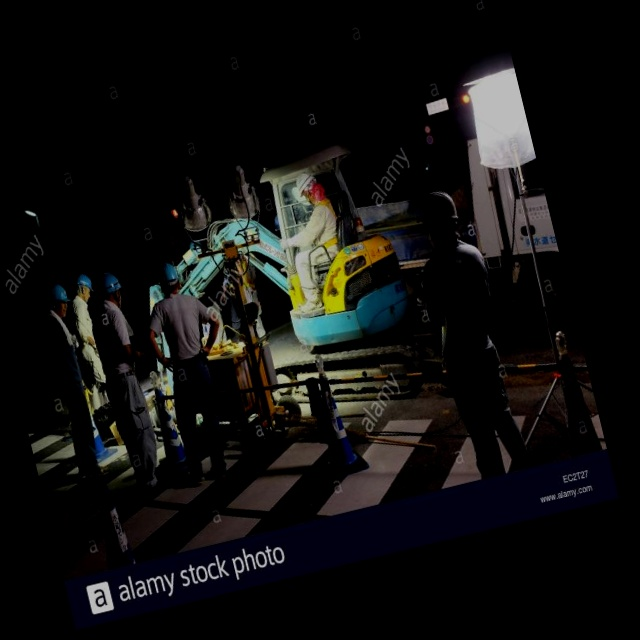Con_Casco: (97, 268, 127, 304), (155, 259, 181, 296)
Sin_Chaleco: (420, 239, 506, 357), (152, 292, 209, 366), (87, 299, 139, 373)
